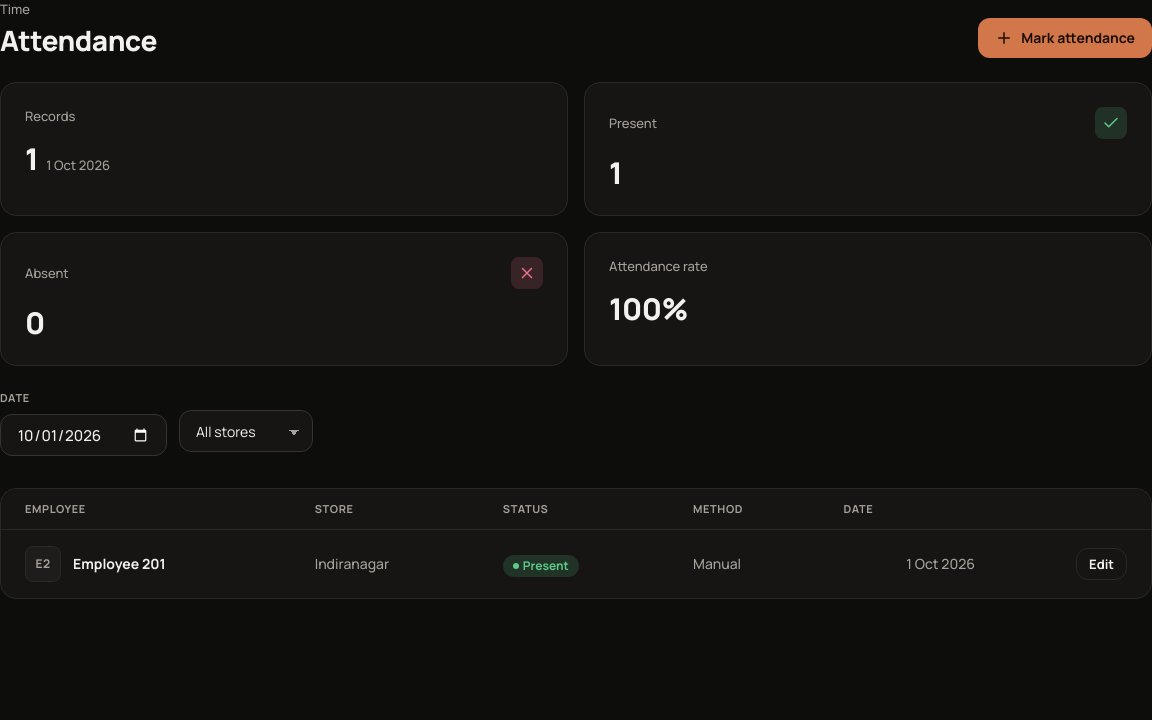
Test: Edit attendance — organization admin direct edit › opens with the record's current status, not PENDING or any other invented state
The image size is (1152, 720).
Click the button "Edit".
click(1102, 564)  # box x1=1076 y1=548 x2=1127 y2=580
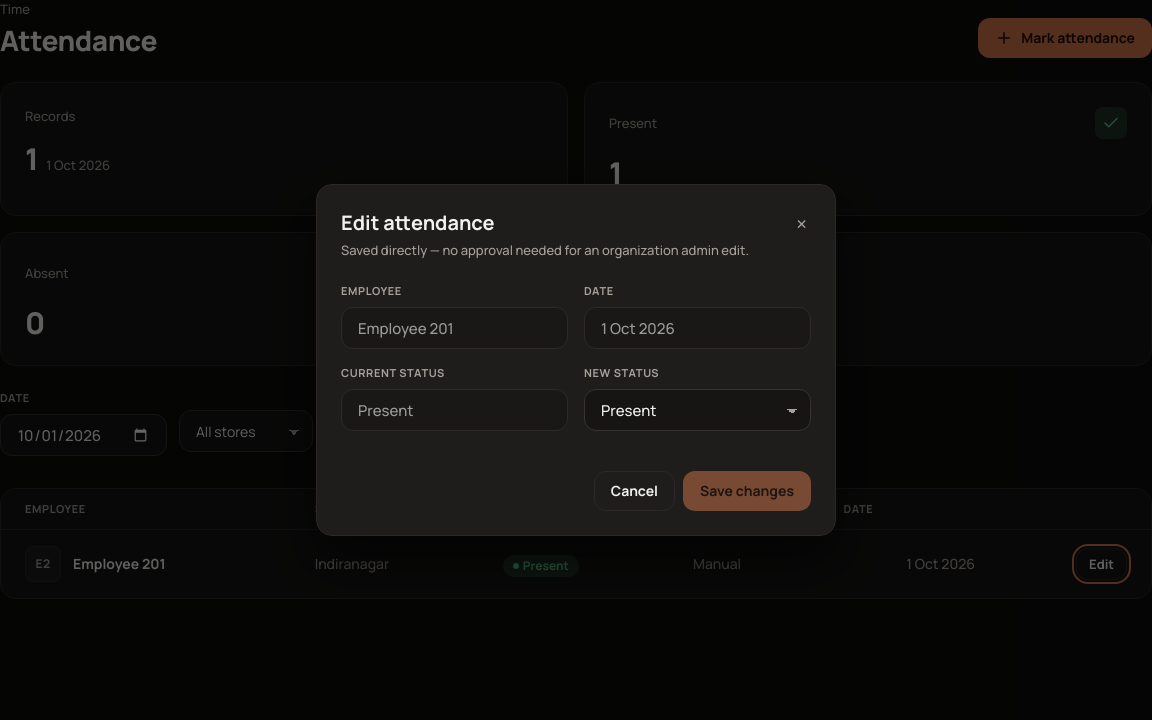
Check: the field labelled "Current status" holds "Present", box x1=341 y1=389 x2=568 y2=431
Check: the dropdown labelled "New status" shows "Present", box x1=584 y1=389 x2=811 y2=431
